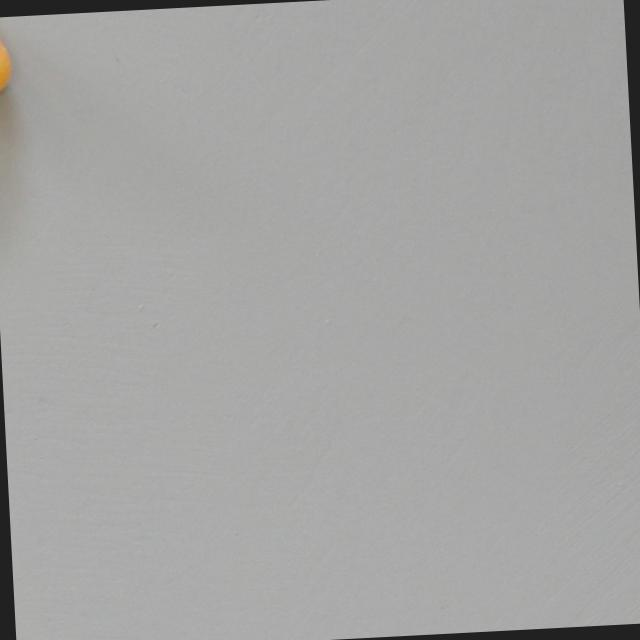pelicula: (0, 16, 16, 108)
